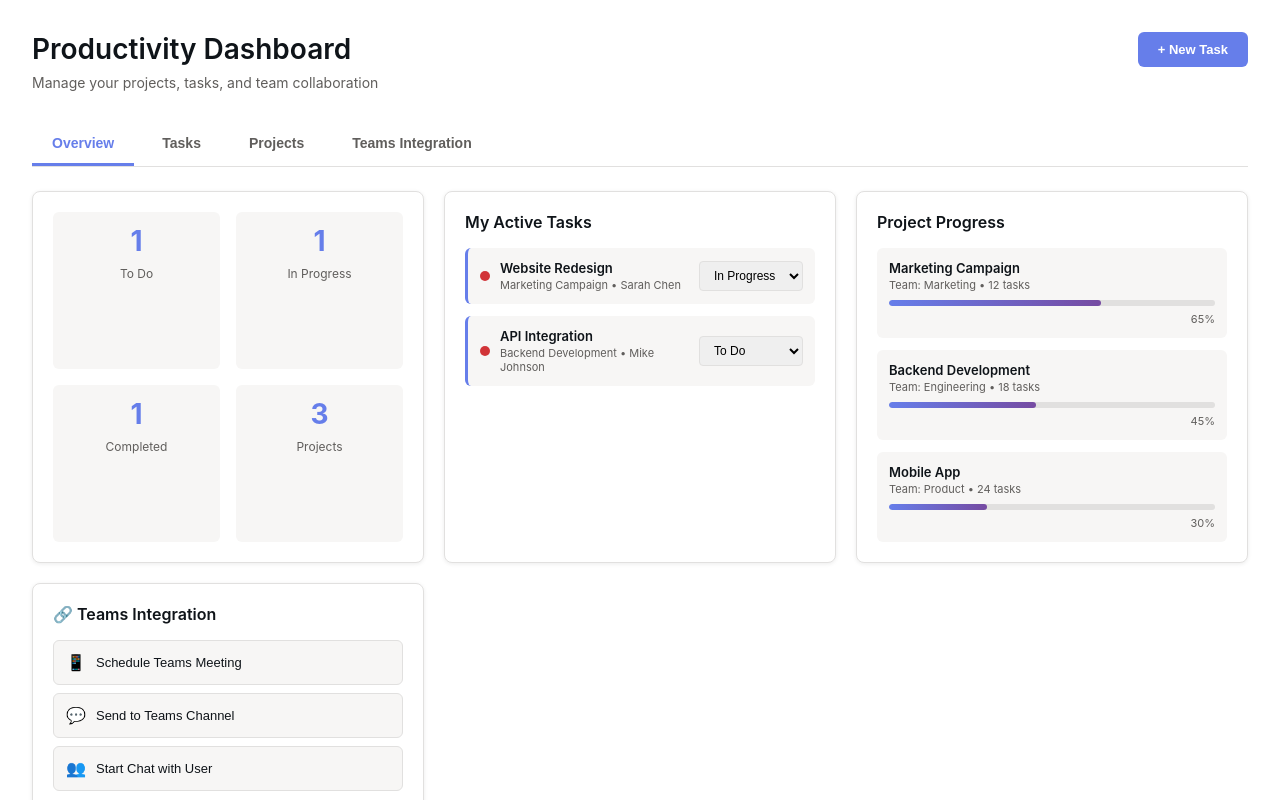
it: Dashboard › moves a task from todo to in-progress
The width and height of the screenshot is (1280, 800).
Click the button "Tasks". click: [182, 144]
box: left=142, top=123, right=221, bottom=166
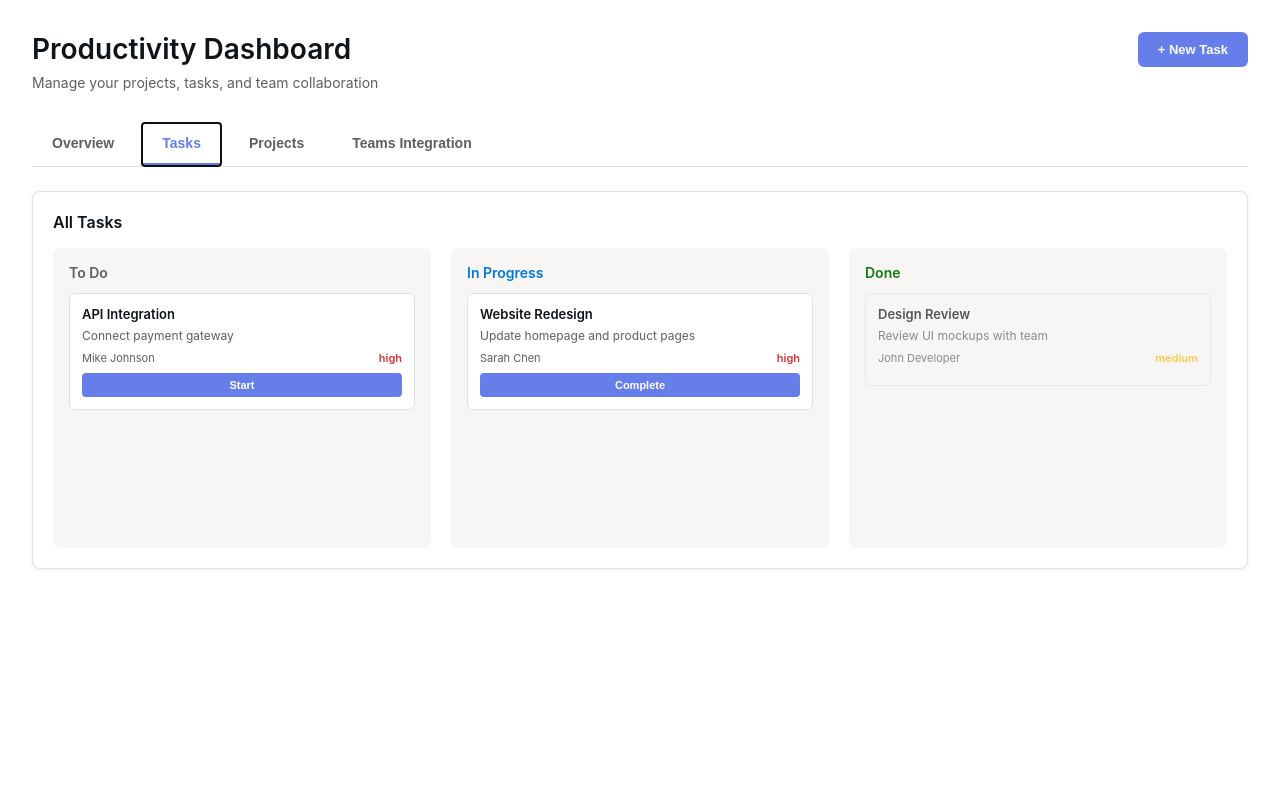
Check: the number of buttons "Start" is 1
Click the button "Start". click: [242, 385]
box: left=82, top=373, right=402, bottom=397
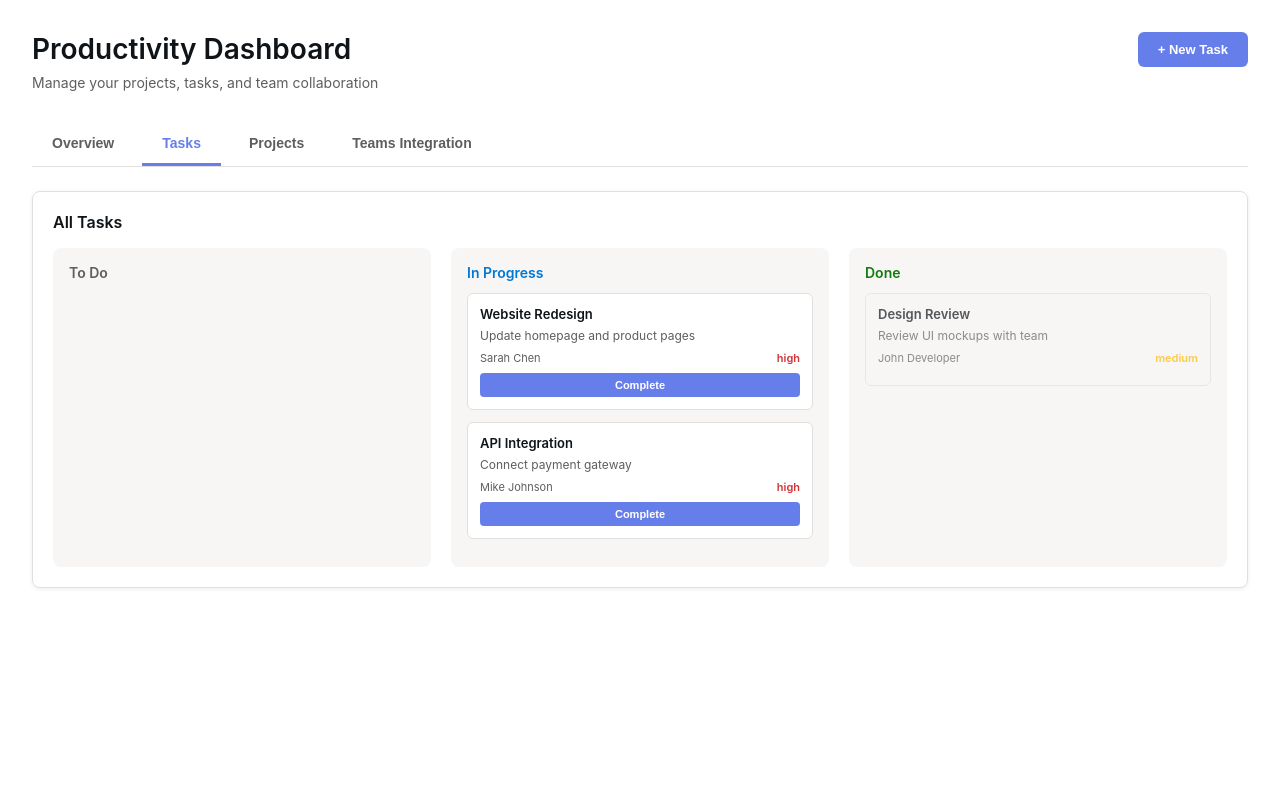
Check: the number of buttons "Complete" is 2, box left=480, top=373, right=800, bottom=397; left=480, top=502, right=800, bottom=526
Check: the button "Start" is gone
